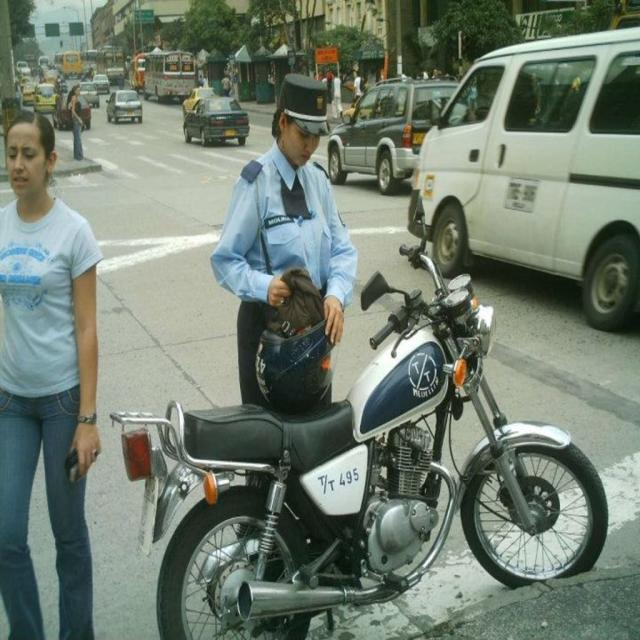car: (182, 90, 247, 142), (105, 90, 141, 122)
